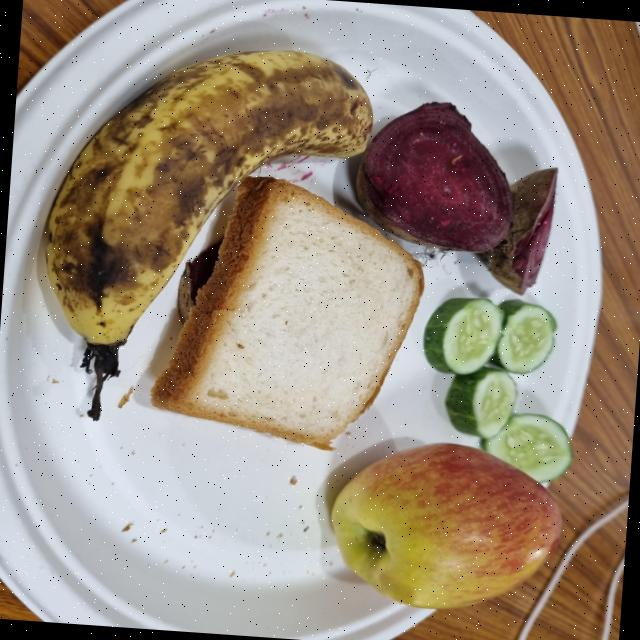apple: (327, 442, 561, 609)
banana: (36, 49, 371, 347)
cucumber: (479, 411, 570, 486), (420, 294, 503, 373), (442, 359, 515, 440), (484, 299, 556, 375)
